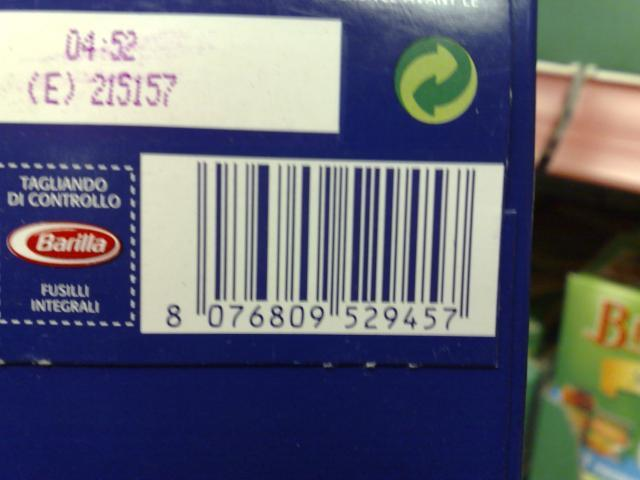Barcode: (153, 154, 485, 338)
